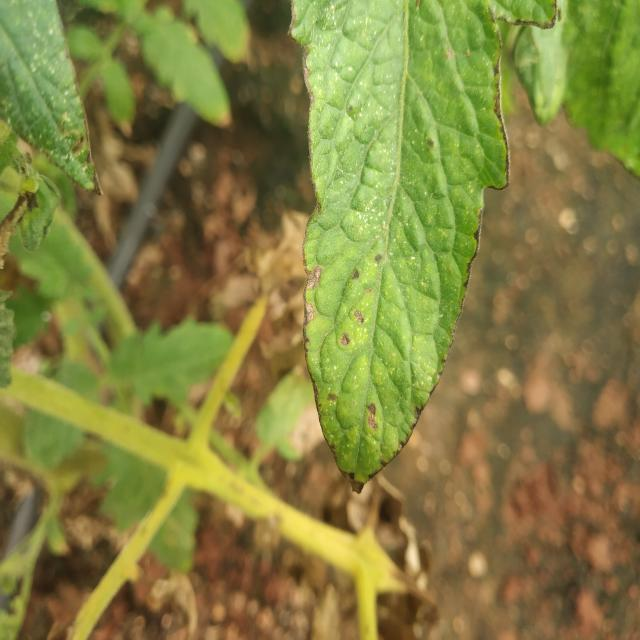Tomato mosaic virus leaf: (282, 0, 516, 507)
